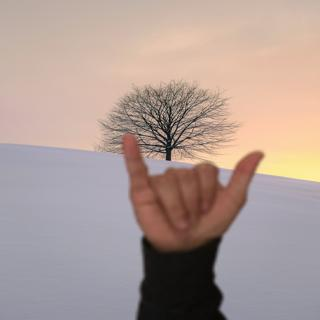HAVE: (110, 125, 274, 252)
